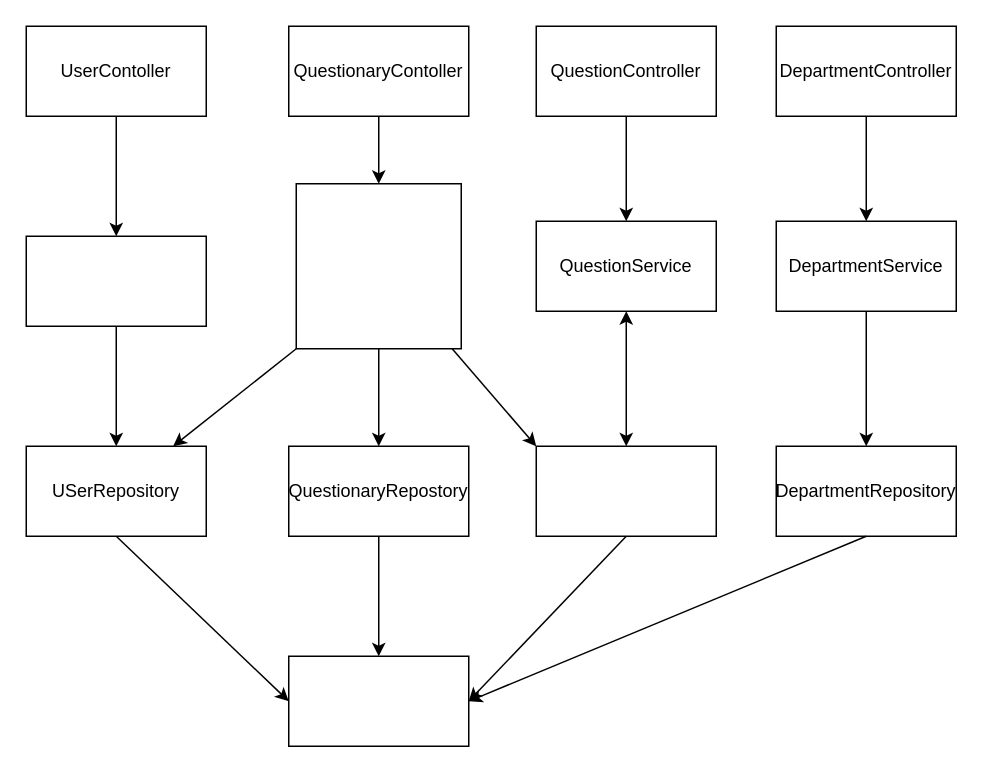
Image size: 983x773. Some labels were removed from this diagram. Here are the shapes that lost their labels. From the top down, the centre of each, then its label:
pixel 115 280: UserService
pixel 378 265: MainService
pixel 625 490: QuestionRepository
pixel 378 700: Db
